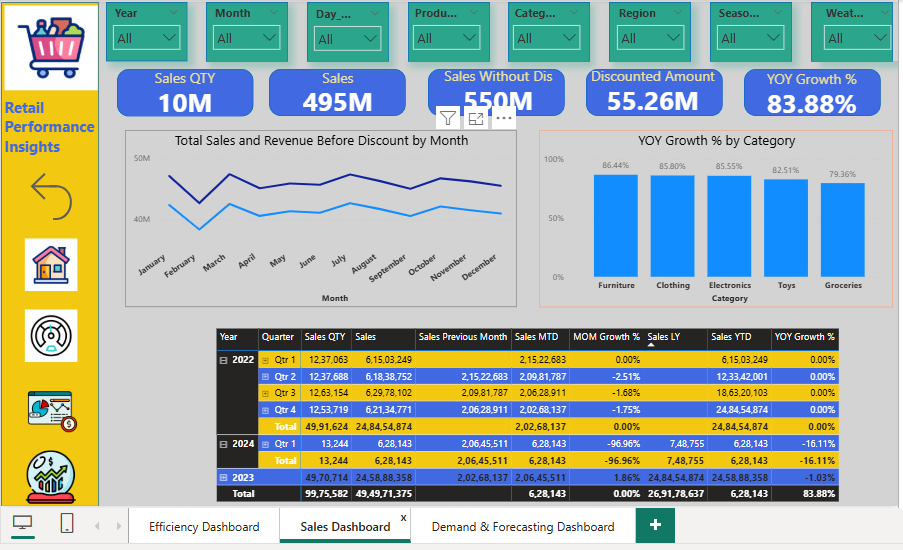

Layout of this report page (visuals, bound fields, positions):
{"tool":"powerbi","page":{"name":"Sales Dashboard","canvas":[1280,720],"ordinal":1},"visuals":[{"type":"shape","box":[0,0,139.9,720],"z":0,"group":"g7"},{"type":"slicer","fields":{"Values":["Calender.Year"]},"box":[149.8,0,115.6,84.2],"z":0,"group":"g3"},{"type":"group","id":"g1","title":"Slicer-Shape-S","box":[150.1,0,1122.7,85.8],"z":0,"group":"g6"},{"type":"shape","box":[150.1,0,116.2,84.6],"z":0,"group":"g1"},{"type":"card","title":"Sales QTY","fields":{"Values":["Measure_Table.Total Sales QTY"]},"box":[165.5,93.5,193.8,69.4],"z":0,"group":"g5"},{"type":"group","id":"g2","title":"KPI-Shape-S","box":[165.5,94.9,1089.8,67.9],"z":0,"group":"g4"},{"type":"shape","box":[165.5,94.9,194.9,67.9],"z":0,"group":"g2"},{"type":"pivotTable","fields":{"Rows":["Calender.Date.Variation.Date Hierarchy.Year","Calender.Date.Variation.Date Hierarchy.Quarter","Calender.Date.Variation.Date Hierarchy.Month","Calender.Date.Variation.Date Hierarchy.Day"],"Values":["Measure_Table.Total Sales QTY","Measure_Table.Total Sales","Measure_Table.Sales Previous Month","Measure_Table.Sales MTD","Measure_Table.MOM Growth %","Measure_Table.Sales LY","Measure_Table.Sales YTD","Measure_Table.YOY Growth %"]},"box":[302.6,460.5,900.6,259.2],"z":0},{"type":"group","id":"g3","title":"Slicer-Slicer-S","box":[149.8,0,1130.2,85.8],"z":1000,"group":"g6"},{"type":"shape","box":[293.1,0.1,117,85.2],"z":1000,"group":"g1"},{"type":"slicer","fields":{"Values":["Calender.Day_Name"]},"box":[436.2,1.8,116.2,84],"z":1000,"group":"g3"},{"type":"group","id":"g4","title":"KPI-S","box":[165.5,91.3,1090.2,71.3],"z":1000},{"type":"group","id":"g5","title":"KPI-Card-S","box":[165.5,91.3,1090.5,71.6],"z":1000,"group":"g4"},{"type":"card","title":"Sales","fields":{"Values":["Measure_Table.Total Sales"]},"box":[383.2,93.5,193.8,67],"z":1000,"group":"g5"},{"type":"shape","box":[382,95.3,195.5,67.1],"z":1000,"group":"g2"},{"type":"image","box":[0,332.2,142.2,84.9],"z":1000,"group":"g7"},{"type":"slicer","fields":{"Values":["Calender.Month"]},"box":[293.2,0,116.2,84],"z":2000,"group":"g3"},{"type":"shape","box":[436.9,0.1,117,85.2],"z":2000,"group":"g1"},{"type":"card","title":"Sales Without Dis","fields":{"Values":["Measure_Table.Revenue Before Discount"]},"box":[612.4,91.3,194.9,67.9],"z":2000,"group":"g5"},{"type":"shape","box":[608.9,95.3,195.5,67.1],"z":2000,"group":"g2"},{"type":"textbox","box":[0,130.2,143.8,104.9],"z":2000,"group":"g7"},{"type":"lineChart","fields":{"Y":["Measure_Table.Total Sales","Measure_Table.Revenue Before Discount"],"Category":["Calender.Date.Variation.Date Hierarchy.Month"]},"box":[176.9,182.7,559.4,252.6],"z":2000},{"type":"image","box":[0,0,142.9,131.2],"z":3000,"group":"g7"},{"type":"slicer","fields":{"Values":["retail_store_inventory.Weather Condition"]},"box":[1163.8,0,116.2,84],"z":3000,"group":"g3"},{"type":"shape","box":[580.6,0.1,117,85.2],"z":3000,"group":"g1"},{"type":"card","title":"Discounted Amount","fields":{"Values":["Measure_Table.Discount Amount"]},"box":[832.3,91.3,196.6,67.9],"z":3000,"group":"g5"},{"type":"shape","box":[834.4,95.3,195.5,67.1],"z":3000,"group":"g2"},{"type":"columnChart","fields":{"Category":["retail_store_inventory.Category"],"Y":["Measure_Table.YOY Growth %"]},"box":[767.4,182.4,505.3,253.4],"z":3000},{"type":"group","id":"g6","title":"Slicer-S","box":[149.8,0,1130.2,85.8],"z":4000},{"type":"slicer","fields":{"Values":["retail_store_inventory.Product ID"]},"box":[577.4,0,116.2,84],"z":4000,"group":"g3"},{"type":"shape","box":[724.4,0.1,117,85.2],"z":4000,"group":"g1"},{"type":"card","title":"YOY Growth %","fields":{"Values":["Measure_Table.YOY Growth %"]},"box":[1059.3,94.9,196.6,67.9],"z":4000,"group":"g5"},{"type":"shape","box":[1059.8,95.3,195.5,67.1],"z":4000,"group":"g2"},{"type":"image","box":[0,634.5,142.9,85.5],"z":4000,"group":"g7"},{"type":"group","id":"g7","title":"Side Bar-S","box":[0,0,171.5,720],"z":5000},{"type":"slicer","fields":{"Values":["retail_store_inventory.Category"]},"box":[720.4,0,116.2,84],"z":5000,"group":"g3"},{"type":"shape","box":[868.2,0.1,117,85.2],"z":5000,"group":"g1"},{"type":"image","box":[0,541.8,147.2,84.9],"z":5000,"group":"g7"},{"type":"slicer","fields":{"Values":["retail_store_inventory.Region"]},"box":[868.8,0,116.2,84],"z":6000,"group":"g3"},{"type":"shape","box":[1011.9,0.1,117,85.2],"z":6000,"group":"g1"},{"type":"image","box":[0,433.4,142.2,84.9],"z":6000,"group":"g7"},{"type":"slicer","fields":{"Values":["retail_store_inventory.Seasonality"]},"box":[1011.8,0,116.2,84],"z":7000,"group":"g3"},{"type":"shape","box":[1155.7,0.1,117,85.2],"z":7000,"group":"g1"},{"type":"actionButton","box":[30,235.2,141.5,84.1],"z":7000,"group":"g7"}]}

Visuals, with their boxes on the page's 1280x720 design canvas (x1, y1, x2, y2). These are canvas units, not pixel positions in the 903x550 screenshot, which may show the page scaled, cropped or inside an application window:
shape: left=0, top=0, right=140, bottom=720
slicer - Calender.Year: left=150, top=0, right=265, bottom=84
"Slicer-Shape-S" group: left=150, top=0, right=1273, bottom=86
shape: left=150, top=0, right=266, bottom=85
"Sales QTY" card: left=166, top=94, right=359, bottom=163
"KPI-Shape-S" group: left=166, top=95, right=1255, bottom=163
shape: left=166, top=95, right=360, bottom=163
pivotTable - Calender.Date.Variation.Date Hierarchy.Year x Calender.Date.Variation.Date Hierarchy.Quarter: left=303, top=460, right=1203, bottom=720
"Slicer-Slicer-S" group: left=150, top=0, right=1280, bottom=86
shape: left=293, top=0, right=410, bottom=85
slicer - Calender.Day_Name: left=436, top=2, right=552, bottom=86
"KPI-S" group: left=166, top=91, right=1256, bottom=163
"KPI-Card-S" group: left=166, top=91, right=1256, bottom=163
"Sales" card: left=383, top=94, right=577, bottom=160
shape: left=382, top=95, right=578, bottom=162
image: left=0, top=332, right=142, bottom=417
slicer - Calender.Month: left=293, top=0, right=409, bottom=84
shape: left=437, top=0, right=554, bottom=85
"Sales Without Dis" card: left=612, top=91, right=807, bottom=159
shape: left=609, top=95, right=804, bottom=162
textbox: left=0, top=130, right=144, bottom=235
lineChart - Measure_Table.Total Sales x Measure_Table.Revenue Before Discount: left=177, top=183, right=736, bottom=435
image: left=0, top=0, right=143, bottom=131
slicer - retail_store_inventory.Weather Condition: left=1164, top=0, right=1280, bottom=84
shape: left=581, top=0, right=698, bottom=85
"Discounted Amount" card: left=832, top=91, right=1029, bottom=159
shape: left=834, top=95, right=1030, bottom=162
columnChart - retail_store_inventory.Category x Measure_Table.YOY Growth %: left=767, top=182, right=1273, bottom=436
"Slicer-S" group: left=150, top=0, right=1280, bottom=86
slicer - retail_store_inventory.Product ID: left=577, top=0, right=694, bottom=84
shape: left=724, top=0, right=841, bottom=85
"YOY Growth %" card: left=1059, top=95, right=1256, bottom=163
shape: left=1060, top=95, right=1255, bottom=162
image: left=0, top=634, right=143, bottom=720
"Side Bar-S" group: left=0, top=0, right=172, bottom=720
slicer - retail_store_inventory.Category: left=720, top=0, right=837, bottom=84
shape: left=868, top=0, right=985, bottom=85
image: left=0, top=542, right=147, bottom=627
slicer - retail_store_inventory.Region: left=869, top=0, right=985, bottom=84
shape: left=1012, top=0, right=1129, bottom=85
image: left=0, top=433, right=142, bottom=518
slicer - retail_store_inventory.Seasonality: left=1012, top=0, right=1128, bottom=84
shape: left=1156, top=0, right=1273, bottom=85
actionButton: left=30, top=235, right=172, bottom=319
